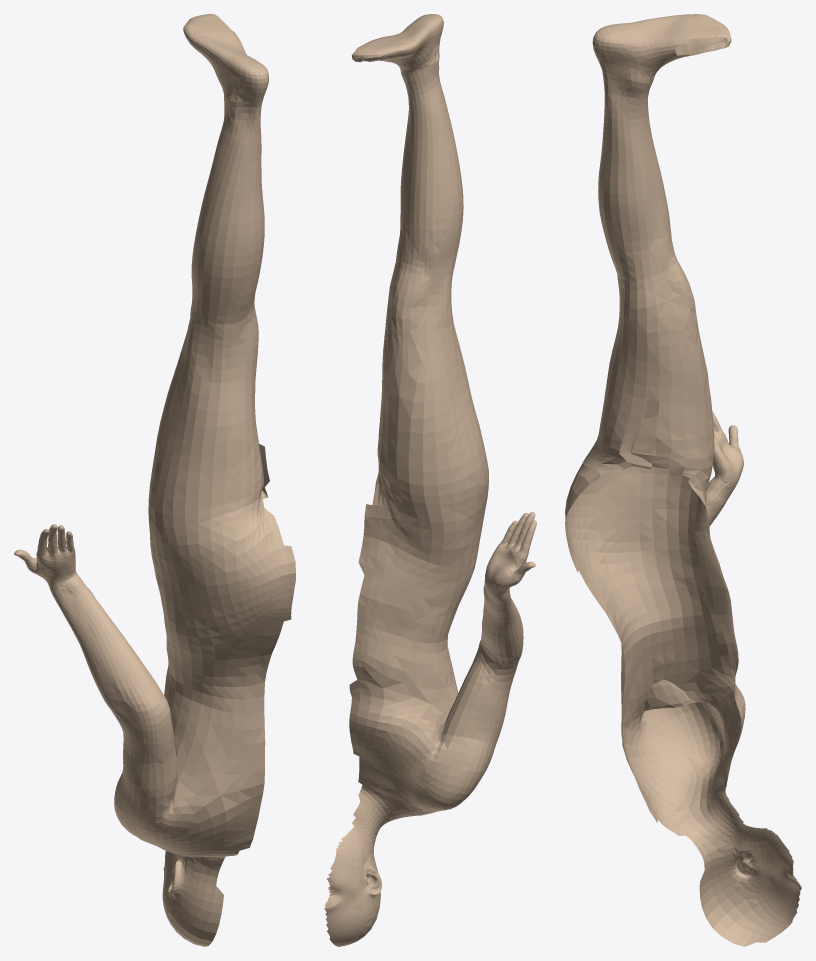
The model's file is left_separated_axial.obj.
3 views of the same model, side by side, from view 1: azimuth 30°, elevation 25°; view 2: azimuth 150°, elevation 25°; view 3: azimuth 270°, elevation 25° (orthographic). The views are drawn at different scales.
Parts seen in each view (by area): view 1: Left_Body; view 2: Left_Body; view 3: Left_Body.
Boxes of the visible parts, <box> form: Left_Body: <box>14,14,295,946</box>; Left_Body: <box>324,14,536,946</box>; Left_Body: <box>565,14,801,946</box>.
Bounding box in the file's own units: 0.3928 × 1.79 × 0.4204.
